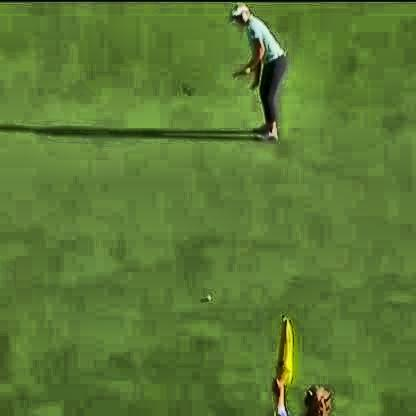golfball: (204, 290, 209, 297)
